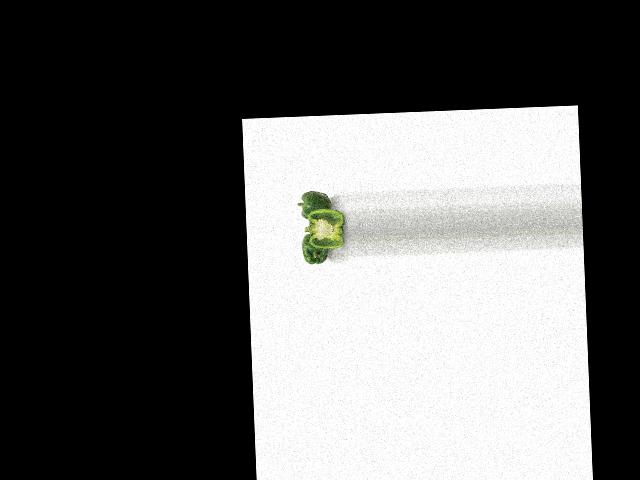bell_pepper: (298, 230, 332, 267)
